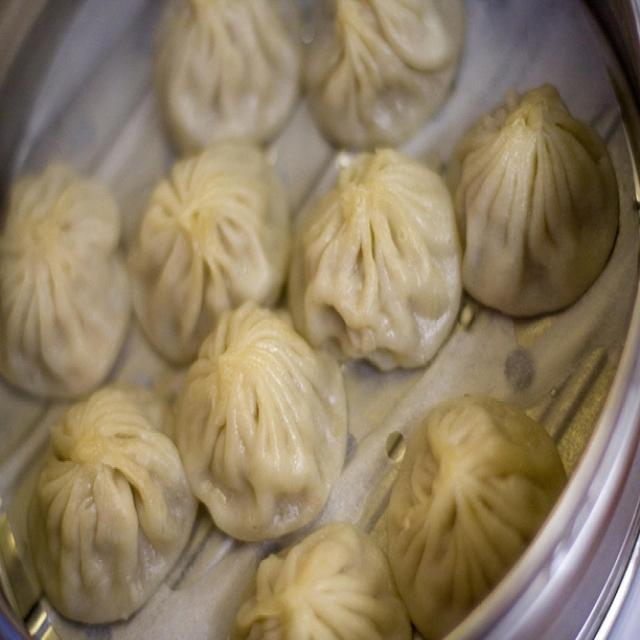带馅早点: (14, 20, 595, 615)
